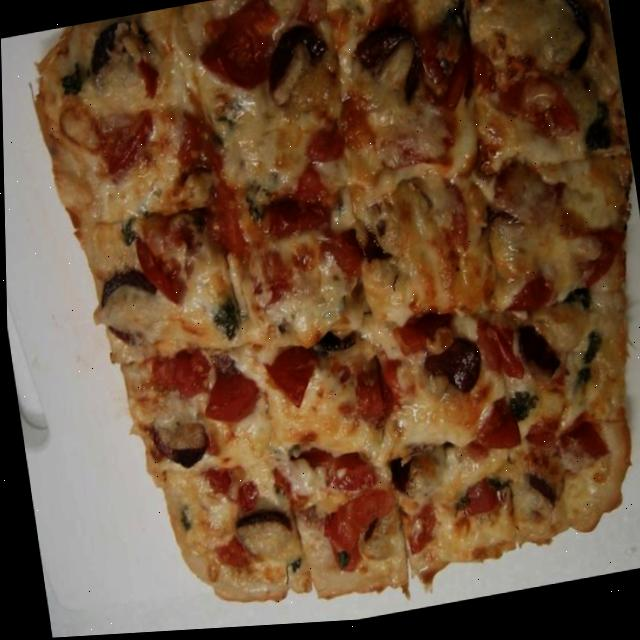汉堡快餐: (18, 0, 640, 639)
